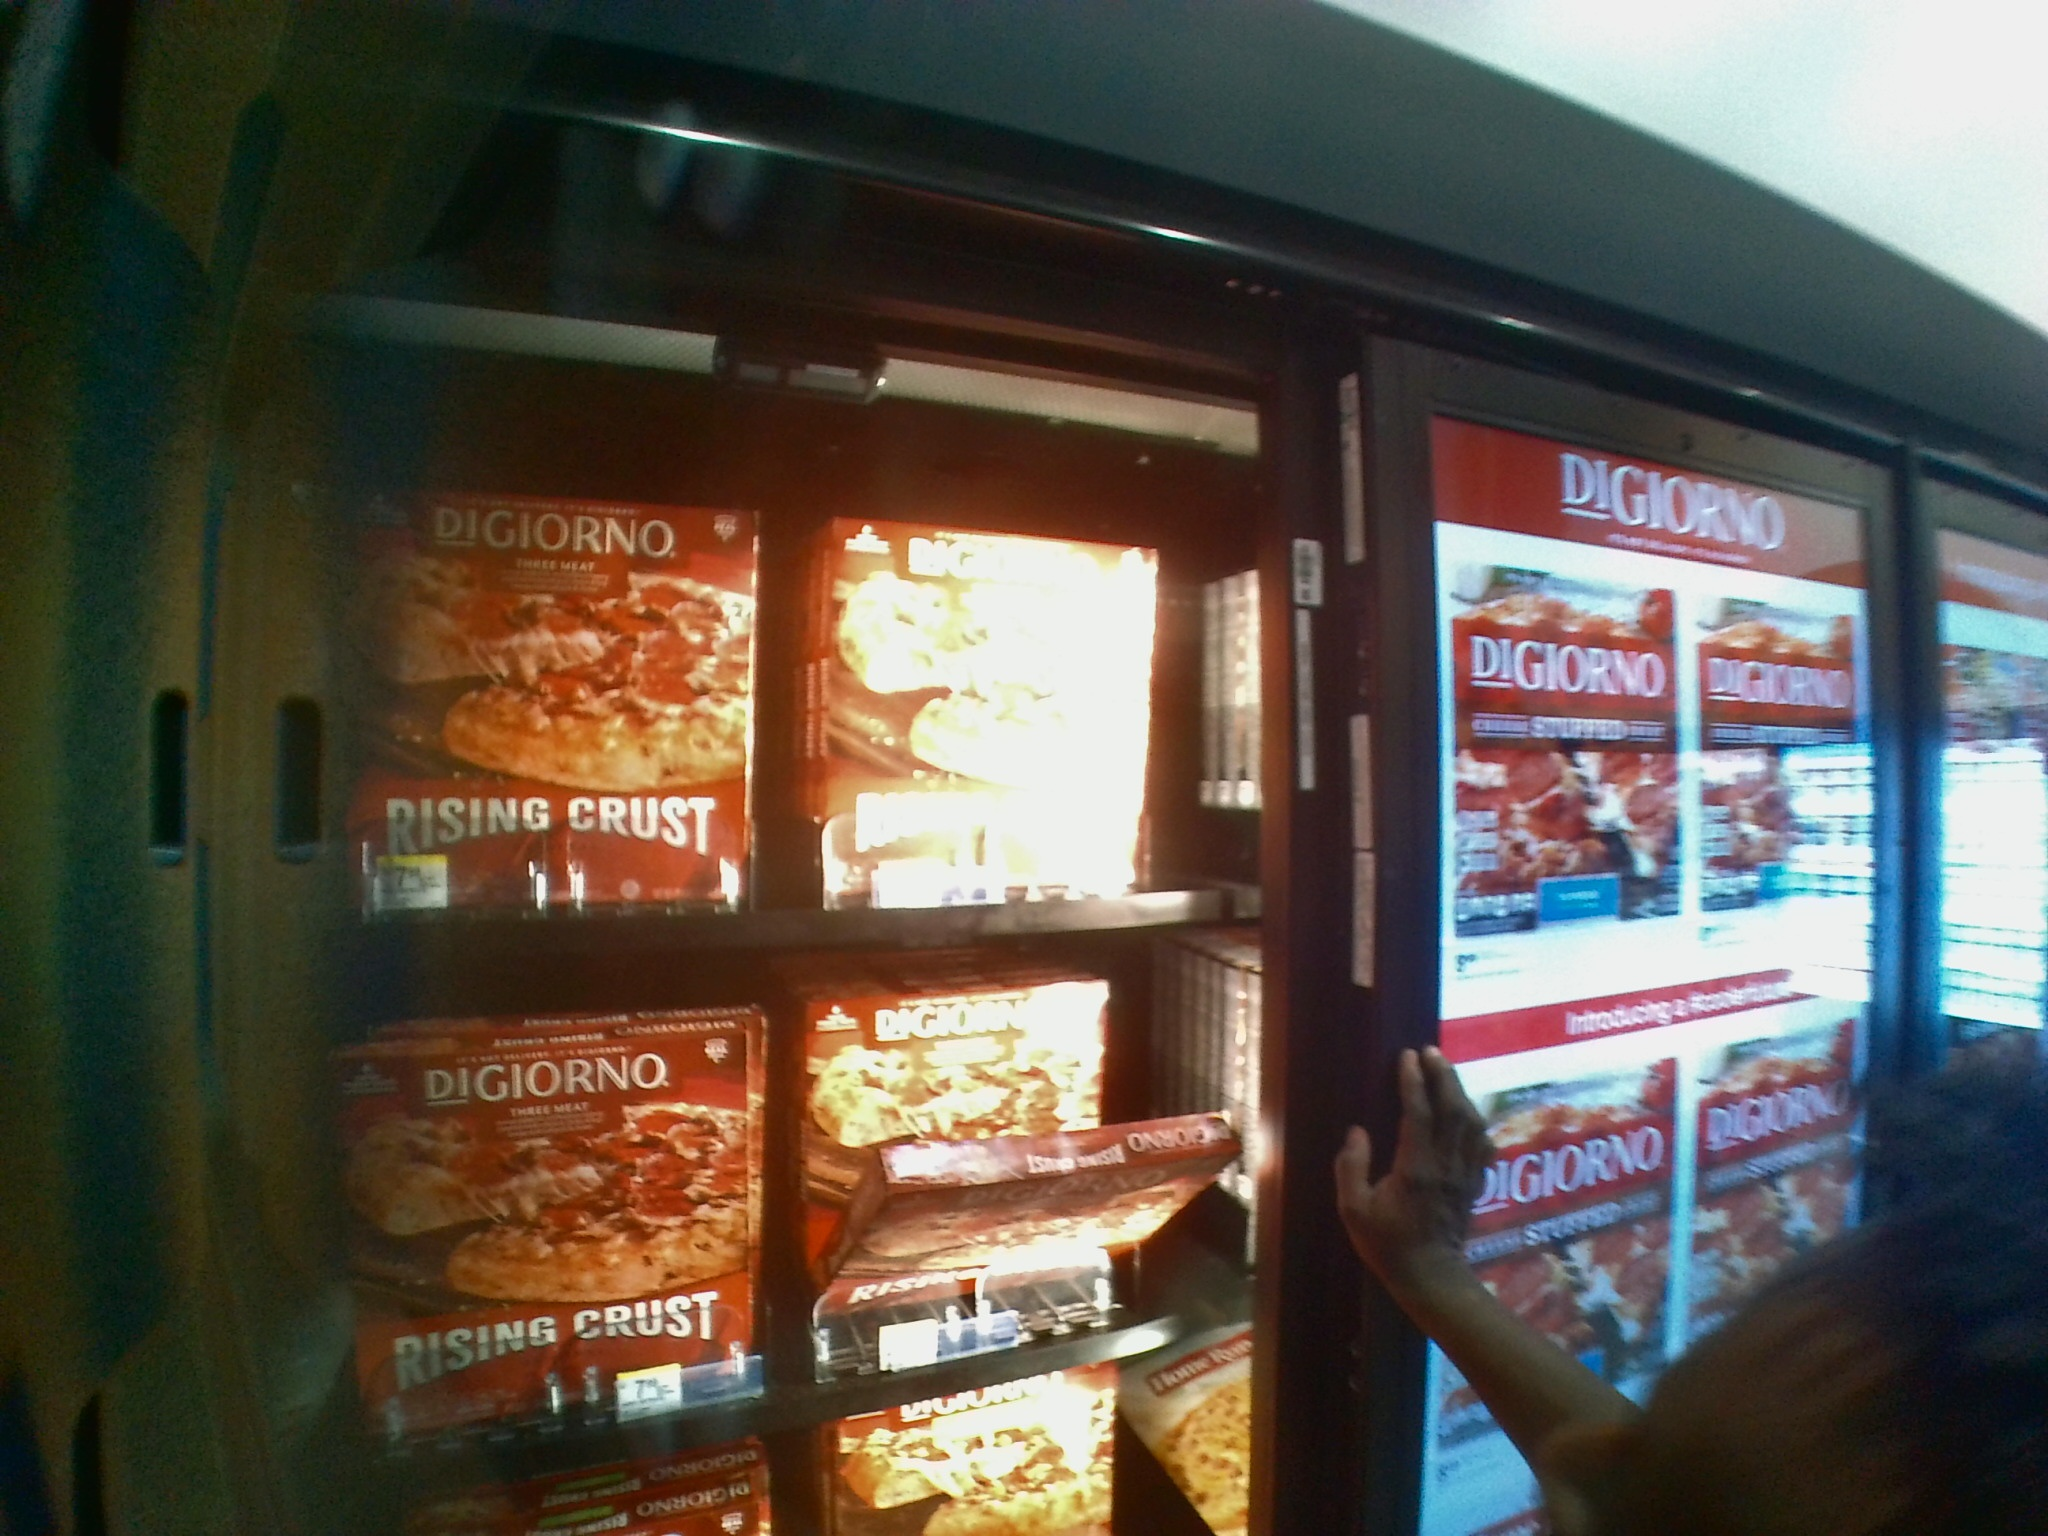shelf: (313, 378, 1264, 947), (323, 966, 1263, 1428)
